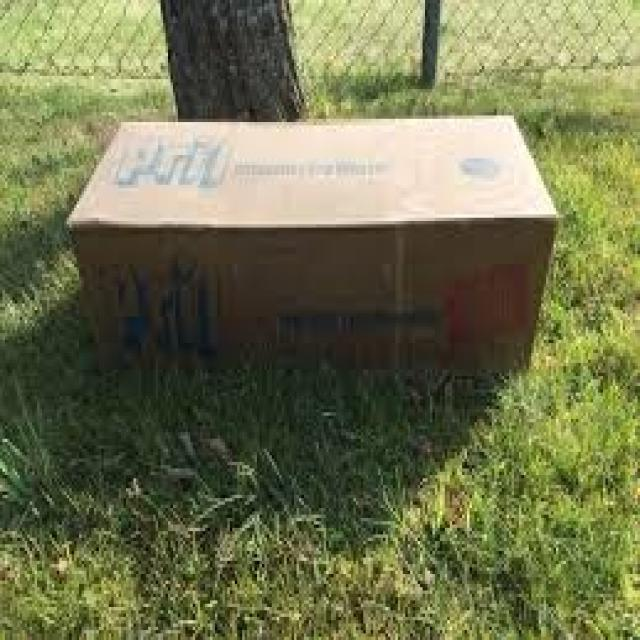cardboard: (65, 112, 559, 373)
